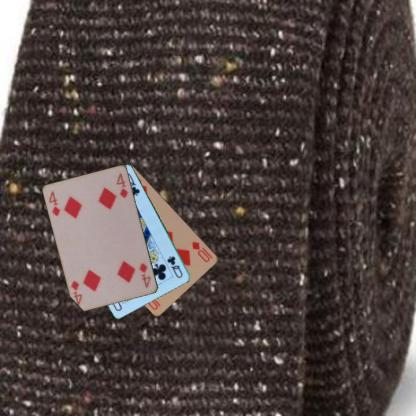10d: (189, 238, 214, 264)
4d: (46, 189, 62, 218), (137, 260, 152, 290)
Qc: (165, 254, 184, 279)
